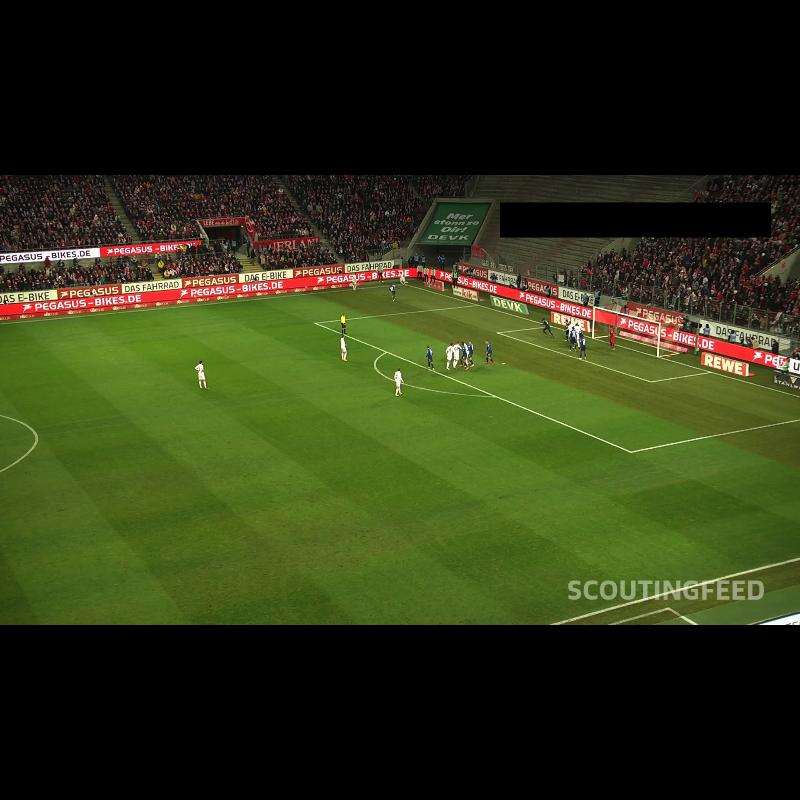cross_recipient_zone: (314, 305, 800, 452)
crossing_player_zone: (458, 419, 800, 599), (140, 284, 476, 336)
pitch: (0, 283, 800, 625)
